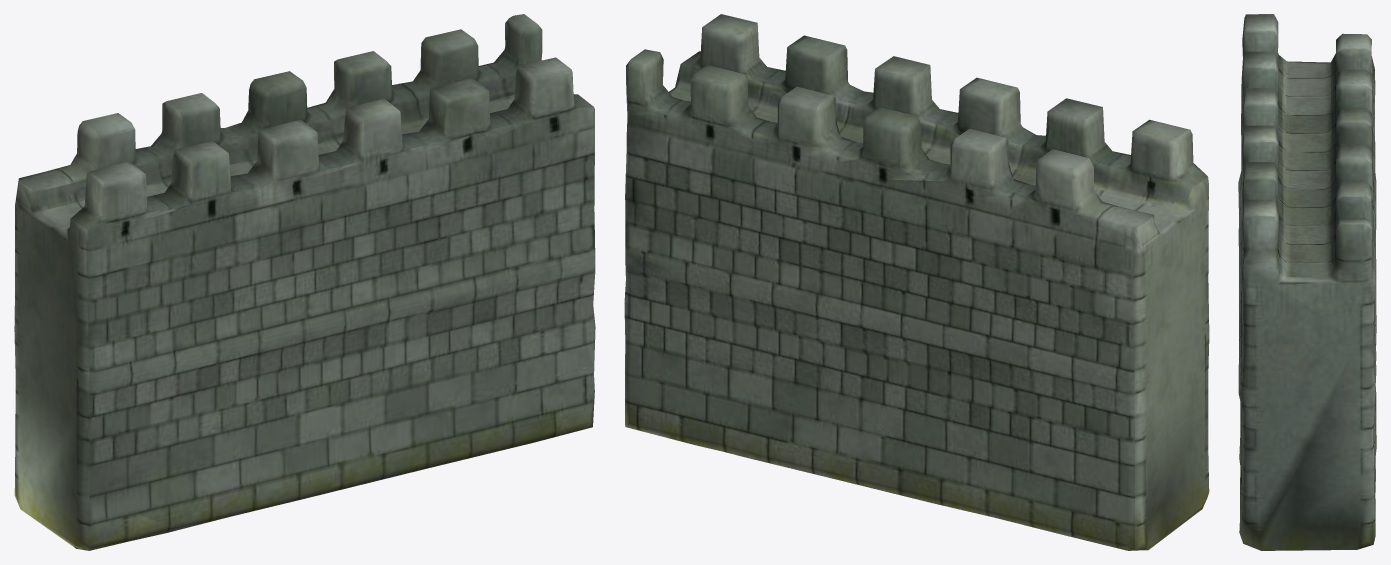
The model's file is city-wall_far.glb.
3 renders of one model, left to right at view 1: azimuth 30°, elevation 25°; view 2: azimuth 150°, elevation 25°; view 3: azimuth 270°, elevation 25°, orthographic. The views are drawn at different scales.
Parts seen in each view (by area): view 1: city_wall_lod1; view 2: city_wall_lod1; view 3: city_wall_lod1.
Boxes of the visible parts, box(x1,y1,x2,y2) form: city_wall_lod1: box(14, 14, 595, 550); city_wall_lod1: box(624, 14, 1209, 550); city_wall_lod1: box(1238, 14, 1376, 550).
Bounding box in the file's own units: 6 × 4.1 × 1.58.
Materials: 1 (1 with a texture image).
